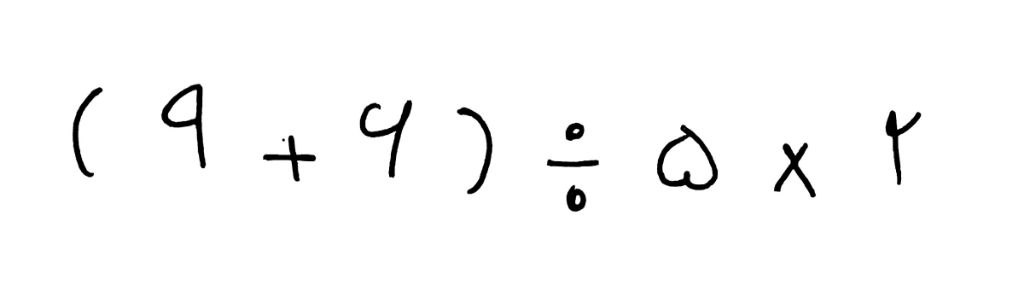character: (548, 122, 600, 212), (358, 99, 414, 179), (656, 123, 720, 193), (161, 82, 208, 169), (458, 107, 493, 197), (885, 108, 922, 190), (72, 85, 103, 181), (265, 136, 317, 181), (776, 143, 817, 197)
